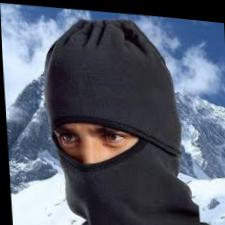WRONG: (49, 102, 157, 225)
